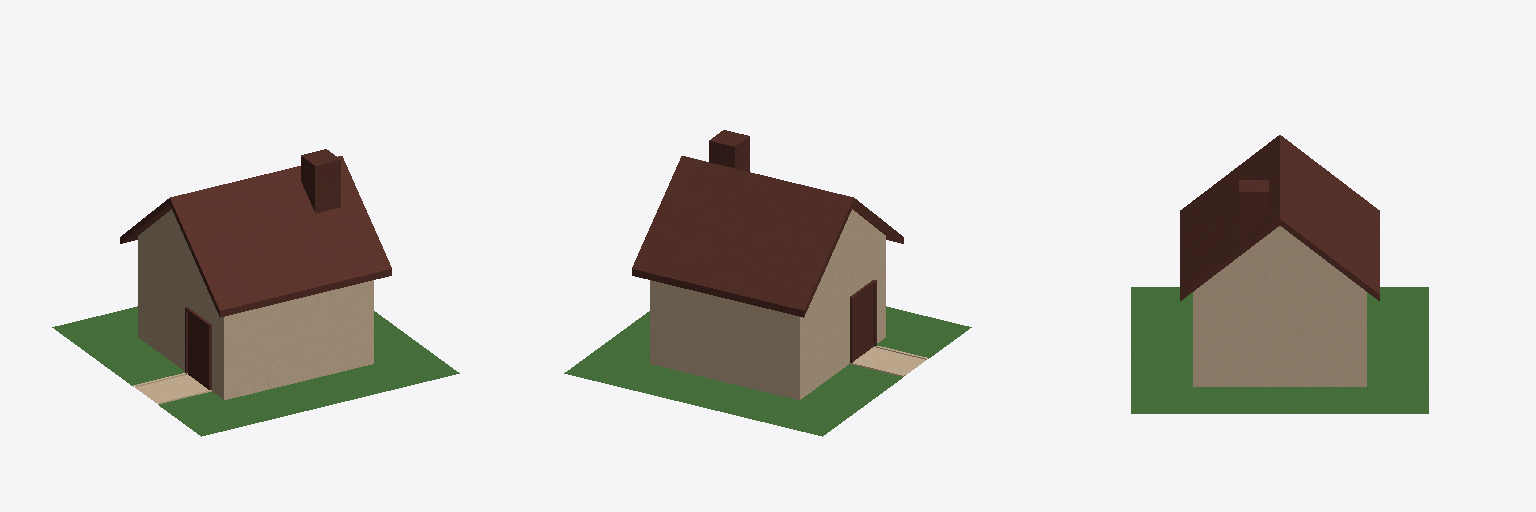
The picture shows the model from 3 angles: view 1: azimuth 30°, elevation 25°; view 2: azimuth 150°, elevation 25°; view 3: azimuth 270°, elevation 25°; orthographic projection.
Visible parts, largest first — view 1: House_Plane; view 2: House_Plane; view 3: House_Plane.
Boxes of the visible parts, x1=… form: House_Plane: x1=52, y1=149, x2=459, y2=436; House_Plane: x1=564, y1=130, x2=971, y2=436; House_Plane: x1=1131, y1=135, x2=1428, y2=413.
Size of the model in its own units: 20 by 14.1 by 20.
4 materials, 3 textured.